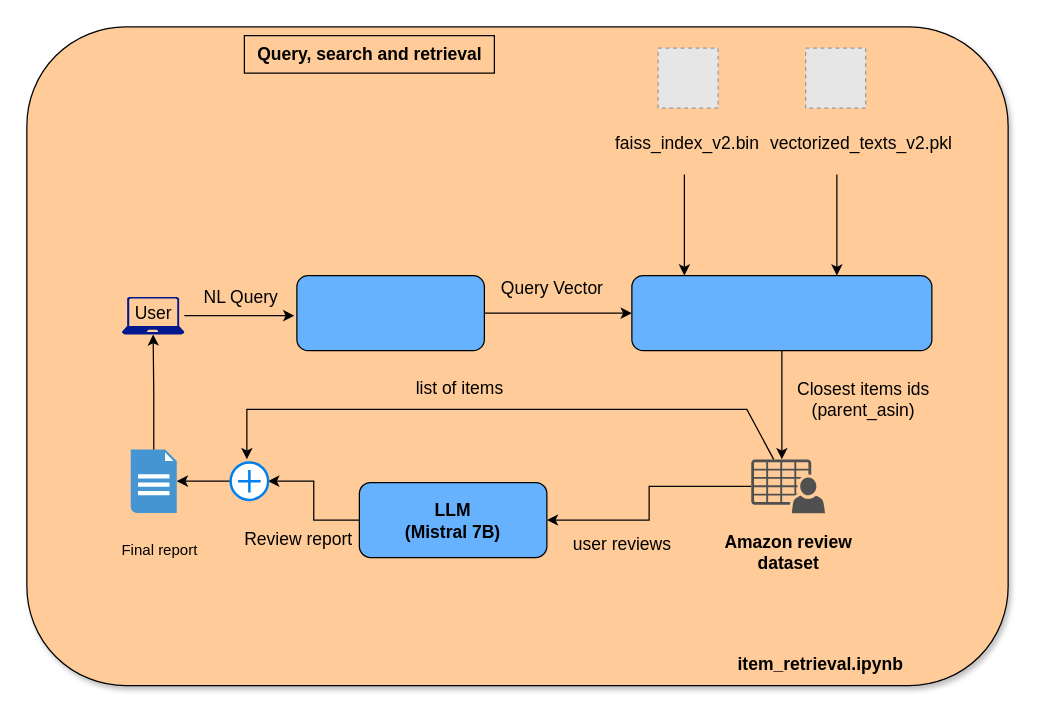
The diagram is 1038 pixels wide and 718 high, and some of its shapes have lost their labels. Grey dashed boxes stand in for pictures. The shapes that lost their labels are listed below. From the top down, each one's centre as x and y in pixels, then its label:
point (390, 312): Sentence embedding (Mpnet-v2)
point (781, 312): Index search (Faiss)
